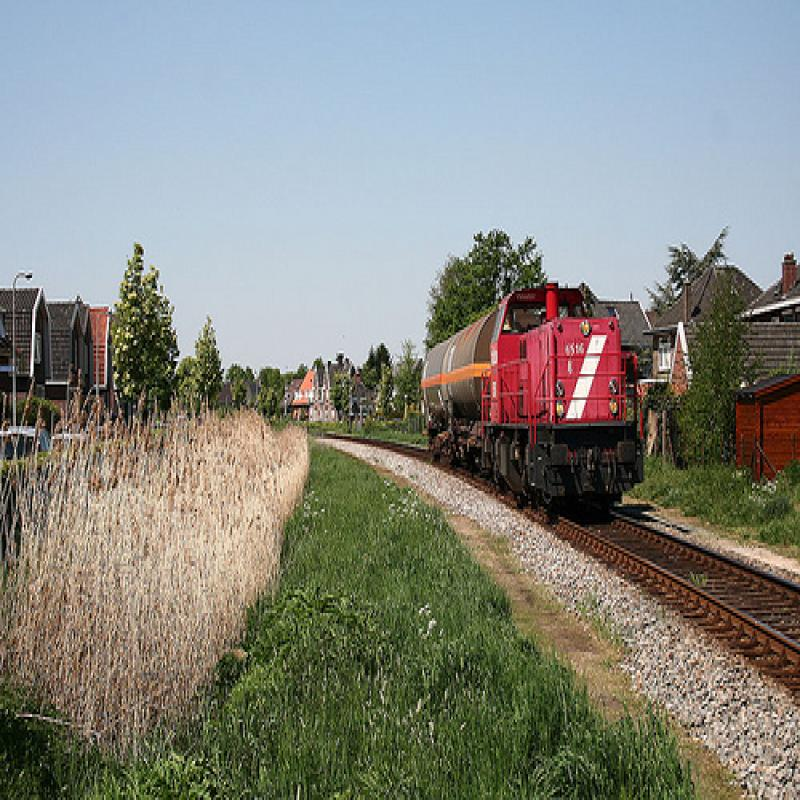train: (424, 287, 648, 523)
